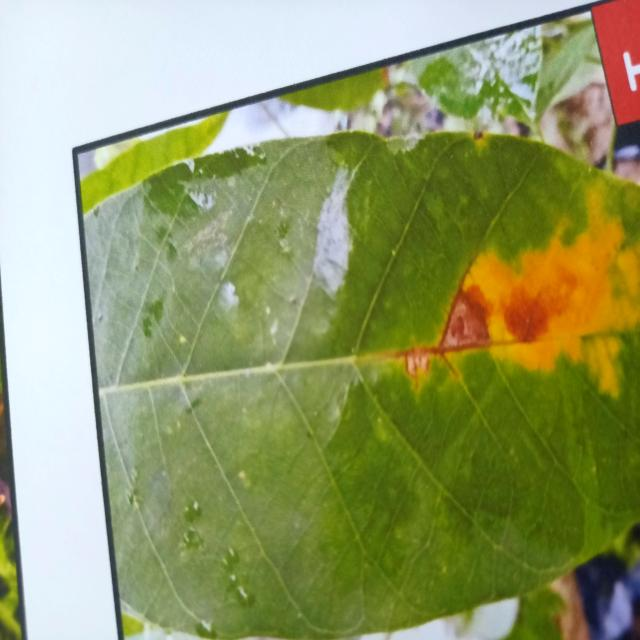Corynespora: (388, 260, 489, 389)
